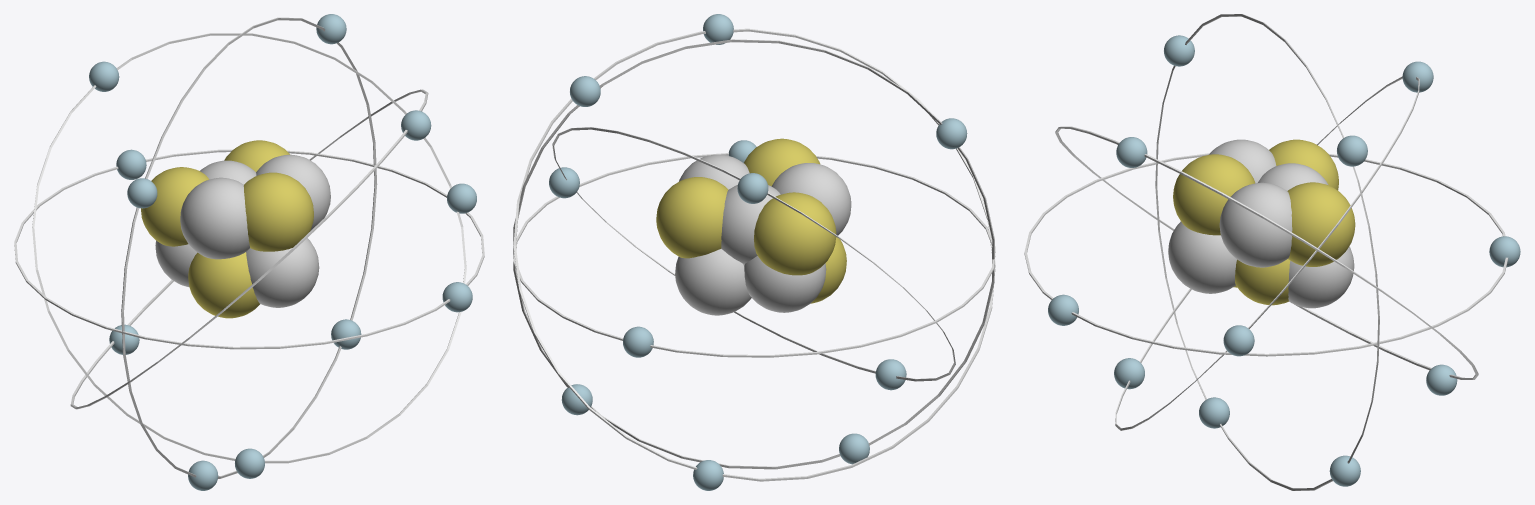
File: rutherford.fbx
3 renders of one model, left to right at view 1: azimuth 30°, elevation 25°; view 2: azimuth 150°, elevation 25°; view 3: azimuth 270°, elevation 25°, orthographic. The views are drawn at different scales.
Parts seen in each view (by area): view 1: Sphere.004, Sphere.008, Circle.002, Sphere.010, Sphere, Circle.001, Circle, Sphere.005, Circle.003, Sphere.012, Sphere.001, Sphere.013 (+12 smaller); view 2: Sphere.005, Sphere.013, Circle.003, Circle.001, Sphere.007, Circle, Sphere.001, Sphere.004, Sphere.003, Circle.002, Sphere.008, Sphere.012 (+11 smaller); view 3: Sphere.012, Sphere.013, Sphere.008, Sphere.010, Circle, Circle.001, Sphere.007, Circle.003, Sphere.006, Sphere.005, Circle.002, Sphere.004 (+12 smaller).
Boxes of the visible parts, <box> form: Sphere.004: <box>180,177,249,259</box>; Sphere.008: <box>243,172,313,251</box>; Circle.002: <box>32,33,466,463</box>; Sphere.010: <box>246,238,319,307</box>; Sphere: <box>188,252,259,318</box>; Circle.001: <box>121,17,377,478</box>; Circle: <box>14,149,484,349</box>; Sphere.005: <box>141,167,209,246</box>; Circle.003: <box>70,89,428,409</box>; Sphere.012: <box>256,154,330,231</box>; Sphere.001: <box>155,240,197,286</box>; Sphere.013: <box>224,140,289,171</box>; Sphere.005: <box>754,192,836,275</box>; Sphere.013: <box>656,177,728,258</box>; Circle.003: <box>513,28,995,481</box>; Circle.001: <box>513,39,994,469</box>; Sphere.007: <box>675,249,751,315</box>; Circle: <box>513,153,995,357</box>; Sphere.001: <box>744,256,826,312</box>; Sphere.004: <box>771,163,851,237</box>; Sphere.003: <box>721,185,780,263</box>; Circle.002: <box>552,127,955,381</box>; Sphere.008: <box>744,138,820,186</box>; Sphere.012: <box>679,154,749,189</box>; Sphere.012: <box>1219,182,1292,267</box>; Sphere.013: <box>1287,182,1355,266</box>; Sphere.008: <box>1173,154,1255,235</box>; Sphere.010: <box>1168,221,1236,293</box>; Circle: <box>1024,153,1508,356</box>; Circle.001: <box>1155,14,1379,490</box>; Sphere.007: <box>1288,246,1354,308</box>; Circle.003: <box>1055,126,1478,379</box>; Sphere.006: <box>1235,259,1290,305</box>; Sphere.005: <box>1269,139,1338,190</box>; Circle.002: <box>1115,76,1419,430</box>; Sphere.004: <box>1209,139,1276,183</box>.
Bounding box in the file's own units: 1164 × 1137 × 1168.
